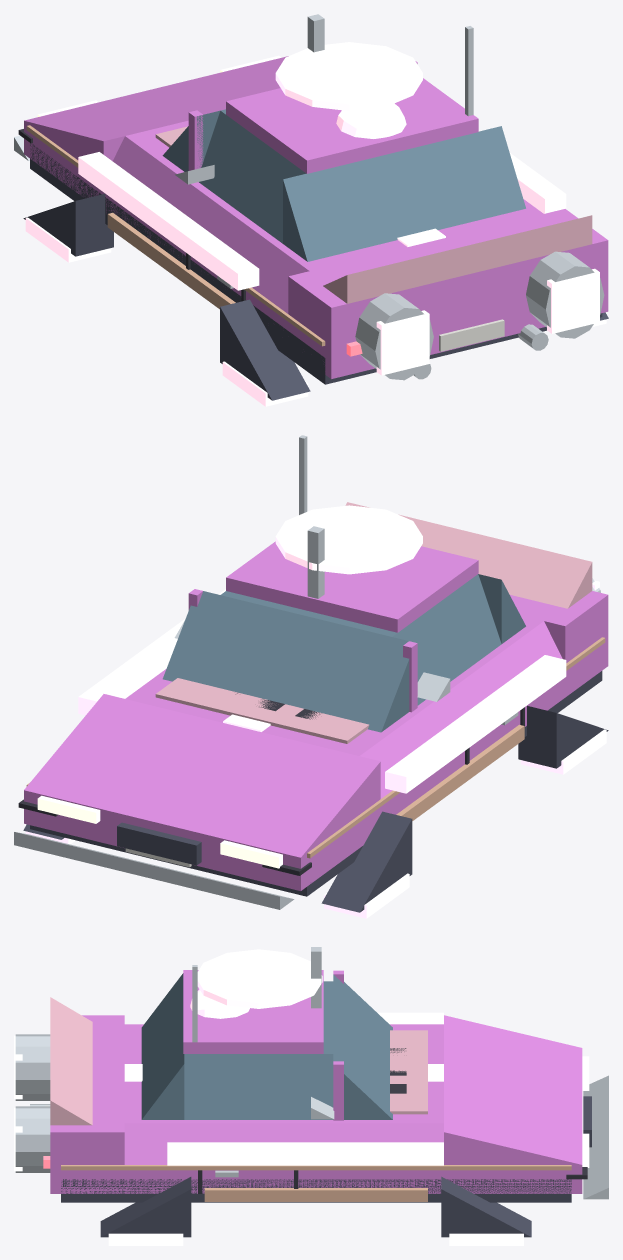
The model's file is gravity_glider.glb.
3 views of the same model, one above another, from view 1: azimuth 30°, elevation 25°; view 2: azimuth 150°, elevation 25°; view 3: azimuth 270°, elevation 25° (orthographic). The views are drawn at different scales.
Parts seen in each view (by area): view 1: RearWindow.204, Tail.104, Roof.304, Nose.101, HaloRing.013, Ducktail.071, ShoulderL.101, Body.304, CabinSideL.101, FloatFin-1.046, Sill.300, HoverPodWheel_RL.046 (+18 smaller); view 2: Nose.101, Windshield.204, Roof.304, Body.304, HaloRing.013, Ducktail.071, FloatFin-1.046, ShoulderL.101, CabinSideL.101, HoverPodWheel_FL.046, Hood.300, Bumper.300 (+18 smaller); view 3: Nose.101, Body.304, CabinSideR.101, ShoulderR.101, Sill.300, Tail.104, FloatFin1.046, Roof.304, Windshield.204, HaloRing.013, RearWindow.204, Ducktail.071 (+19 smaller).
Part boxes in pixels (x1,y1,x2,y2): RearWindow.204: (283, 126, 525, 261); Tail.104: (288, 209, 608, 345); Roof.304: (226, 78, 478, 173); Nose.101: (24, 56, 288, 160); HaloRing.013: (275, 42, 422, 110); Ducktail.071: (323, 215, 592, 303); ShoulderL.101: (112, 136, 309, 313); Body.304: (24, 121, 608, 378); CabinSideL.101: (199, 111, 305, 243); FloatFin-1.046: (78, 152, 259, 290); Sill.300: (30, 143, 602, 384); HoverPodWheel_RL.046: (220, 299, 310, 400); Nose.101: (24, 694, 380, 857); Windshield.204: (162, 591, 409, 732); Roof.304: (226, 541, 478, 632); Body.304: (24, 633, 608, 890); HaloRing.013: (275, 505, 422, 574); Ducktail.071: (345, 502, 592, 608); FloatFin-1.046: (385, 655, 566, 793); ShoulderL.101: (360, 621, 562, 798); CabinSideL.101: (392, 574, 501, 705); HoverPodWheel_FL.046: (321, 811, 412, 912); Hood.300: (155, 678, 369, 743); Bumper.300: (14, 832, 294, 909); Nose.101: (444, 1015, 582, 1164); Body.304: (50, 1165, 582, 1193); CabinSideR.101: (184, 1054, 333, 1119); ShoulderR.101: (124, 1123, 443, 1164); Sill.300: (61, 1179, 571, 1202); Tail.104: (50, 1015, 124, 1164); FloatFin1.046: (167, 1142, 443, 1165); Roof.304: (183, 970, 323, 1053); Windshield.204: (333, 974, 392, 1119); HaloRing.013: (197, 949, 322, 1008); RearWindow.204: (141, 973, 184, 1119); Ducktail.071: (50, 997, 92, 1125).
Size of the model in its own units: 3.2 by 2.52 by 5.59.
